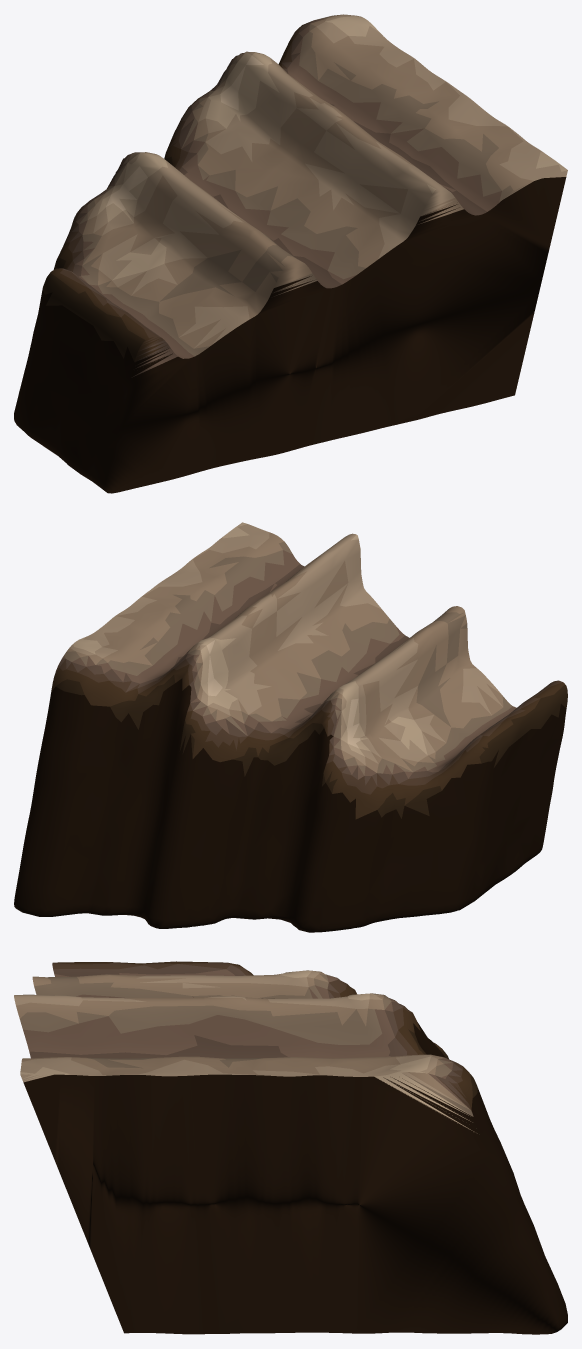
File: drill_rig_tl.glb
3 renders of one model, top to bottom at view 1: azimuth 30°, elevation 25°; view 2: azimuth 150°, elevation 25°; view 3: azimuth 270°, elevation 25°, orthographic. The views are drawn at different scales.
Parts seen in each view (by area): view 1: drill_rig_tl; view 2: drill_rig_tl; view 3: drill_rig_tl.
Part boxes in pixels (box(x1,y1,x2,y2)): drill_rig_tl: box(14, 14, 567, 493); drill_rig_tl: box(14, 522, 567, 932); drill_rig_tl: box(14, 961, 567, 1334).
Size of the model in its own units: 24.08 by 15.79 by 28.53.
